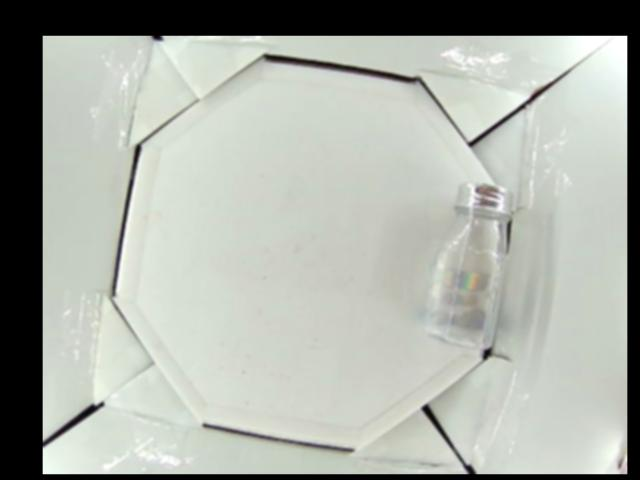Bottle: (421, 180, 515, 350)
